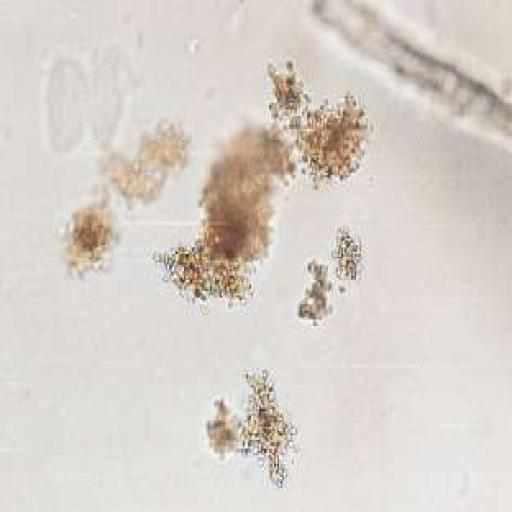BFU-E: (269, 66, 368, 184), (240, 372, 294, 484), (156, 241, 249, 300), (297, 260, 331, 324), (333, 228, 361, 278)
